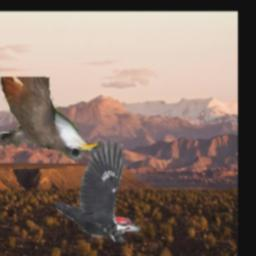Cuckoo: (1, 78, 101, 161)
Woodpecker: (53, 138, 142, 243)
